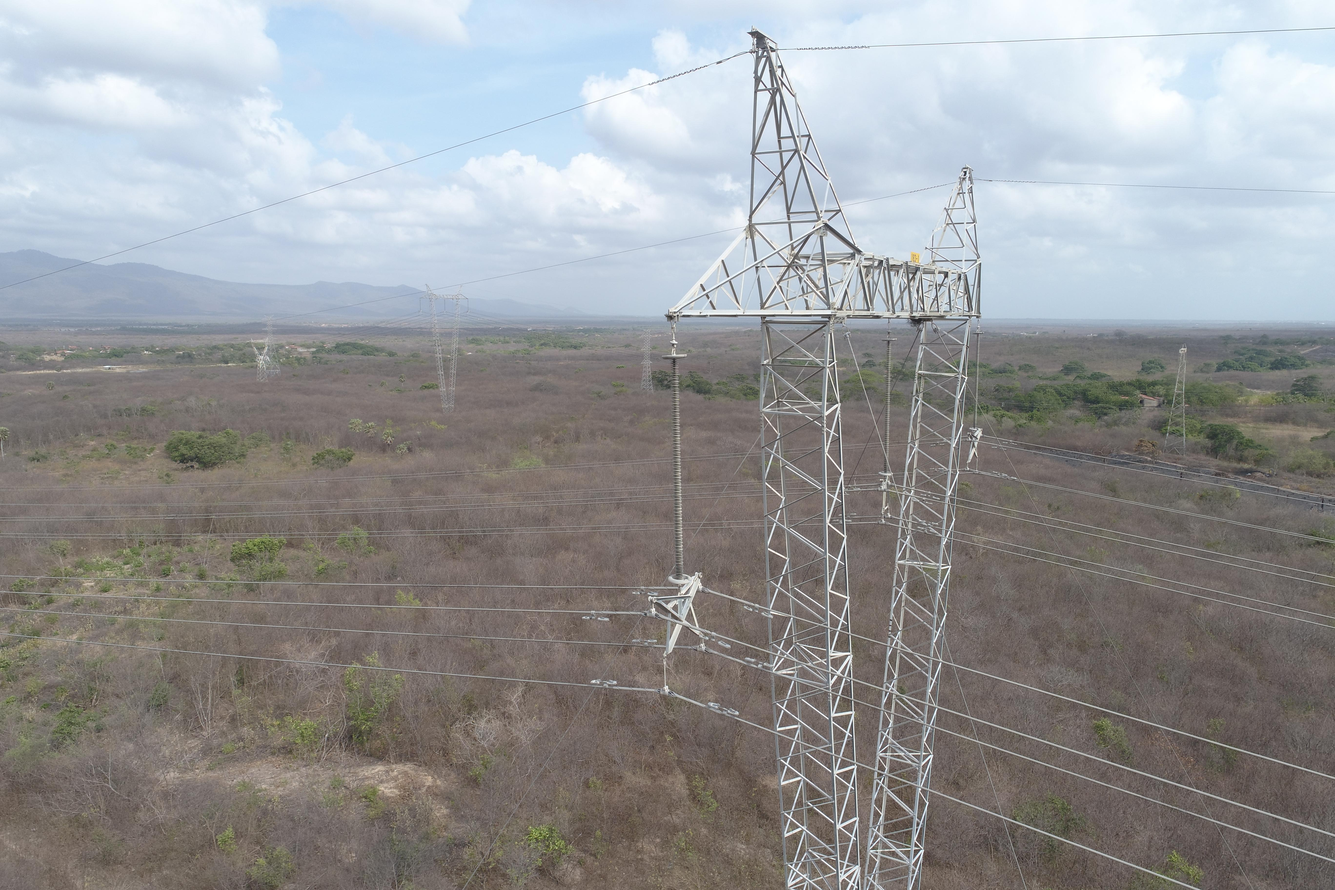power_tower: (646, 23, 990, 890), (417, 281, 472, 417), (1161, 342, 1188, 450), (260, 310, 285, 377), (637, 325, 660, 396), (246, 334, 269, 387)
